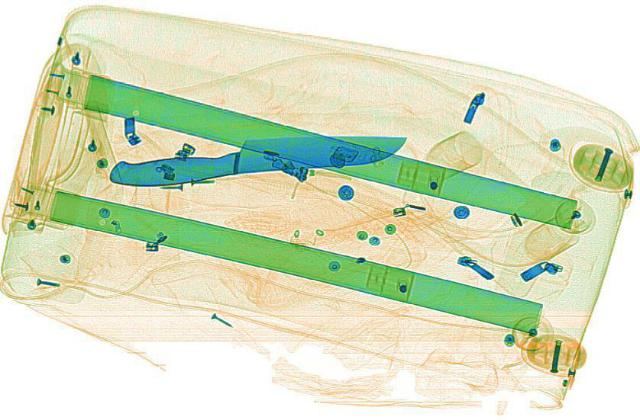Knife: (104, 121, 412, 189)
